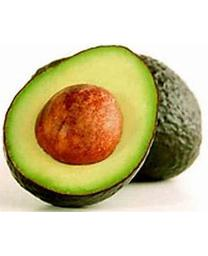avocado: (2, 42, 159, 209), (108, 54, 202, 184)
